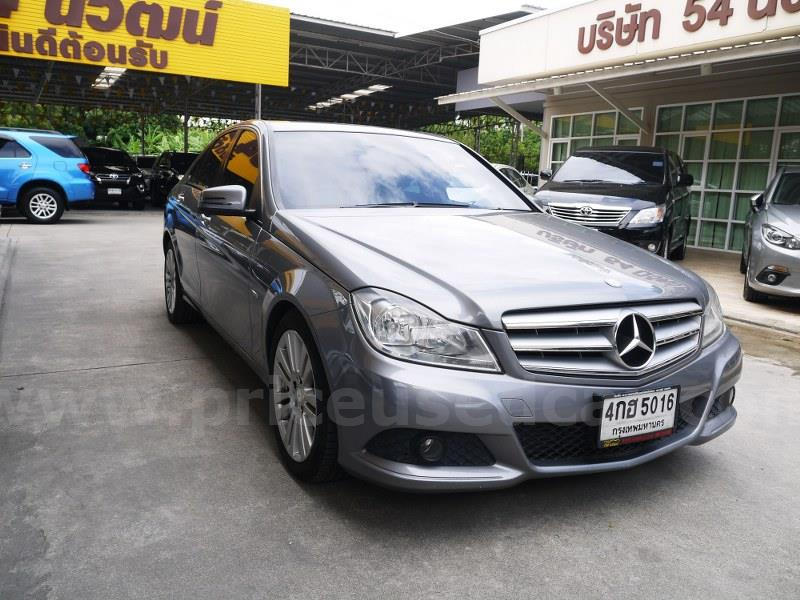sedan: (156, 115, 745, 507)
